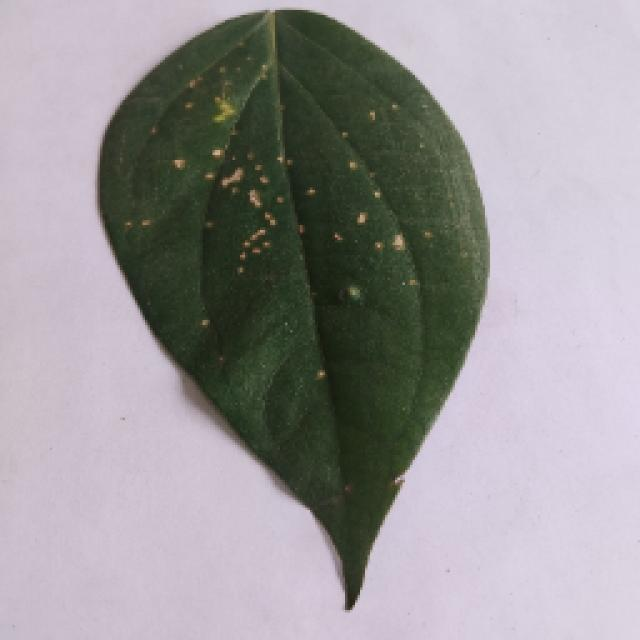pollu-disease: (95, 8, 485, 608)
